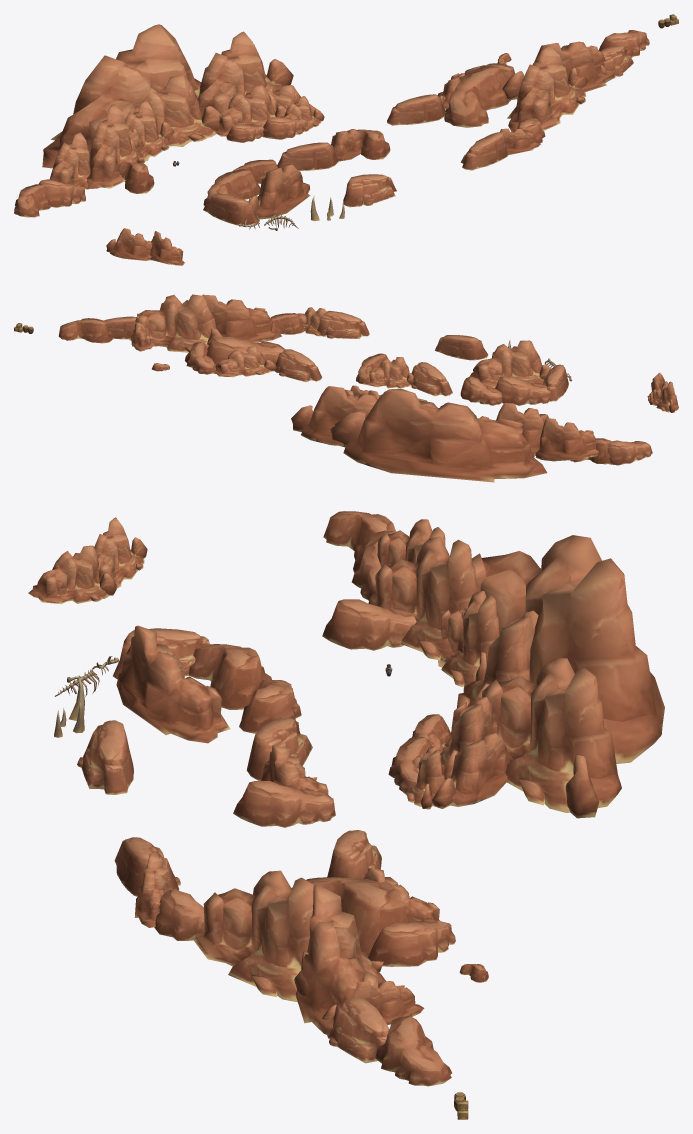
Rendered from rock_red01_y.FBX.
The picture shows the model from 3 angles, top to bottom: view 1: azimuth 30°, elevation 25°; view 2: azimuth 150°, elevation 25°; view 3: azimuth 270°, elevation 25°; orthographic projection. The views are drawn at different scales.
Visible parts, largest first — view 1: rock_red01_y; view 2: rock_red01_y; view 3: rock_red01_y.
Boxes of the visible parts, x1,y1,x2,y2 form: rock_red01_y: (14, 14, 678, 265); rock_red01_y: (14, 294, 678, 482); rock_red01_y: (28, 511, 664, 1119).
Size of the model in its own units: 181 by 22.46 by 82.06.
1 material, 1 textured.
